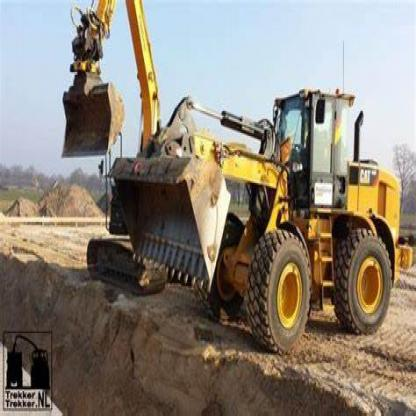bull_dozer/loader/grader: (115, 75, 412, 363)
